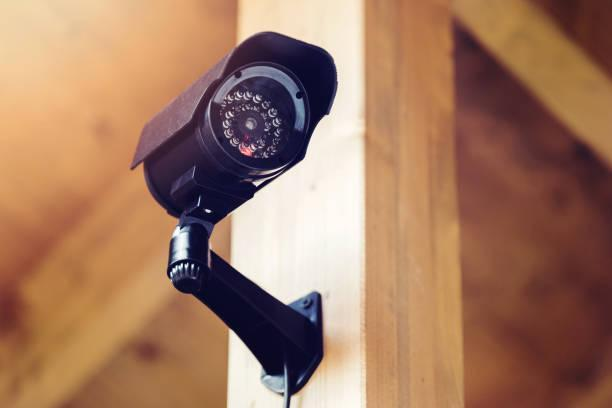camera: (113, 8, 355, 283)
